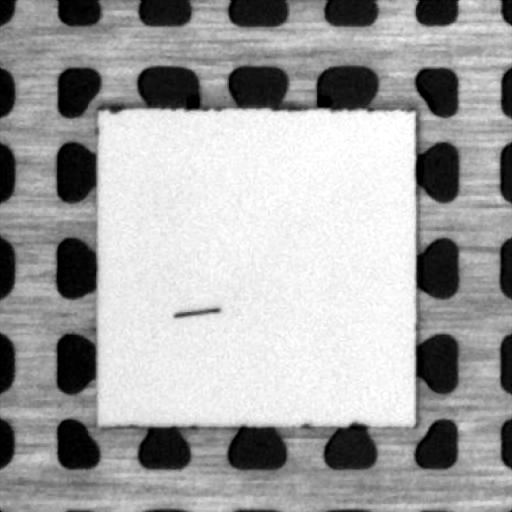DIE_INK: (169, 308, 221, 317)
